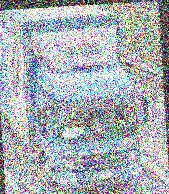truck: (0, 2, 151, 194)
